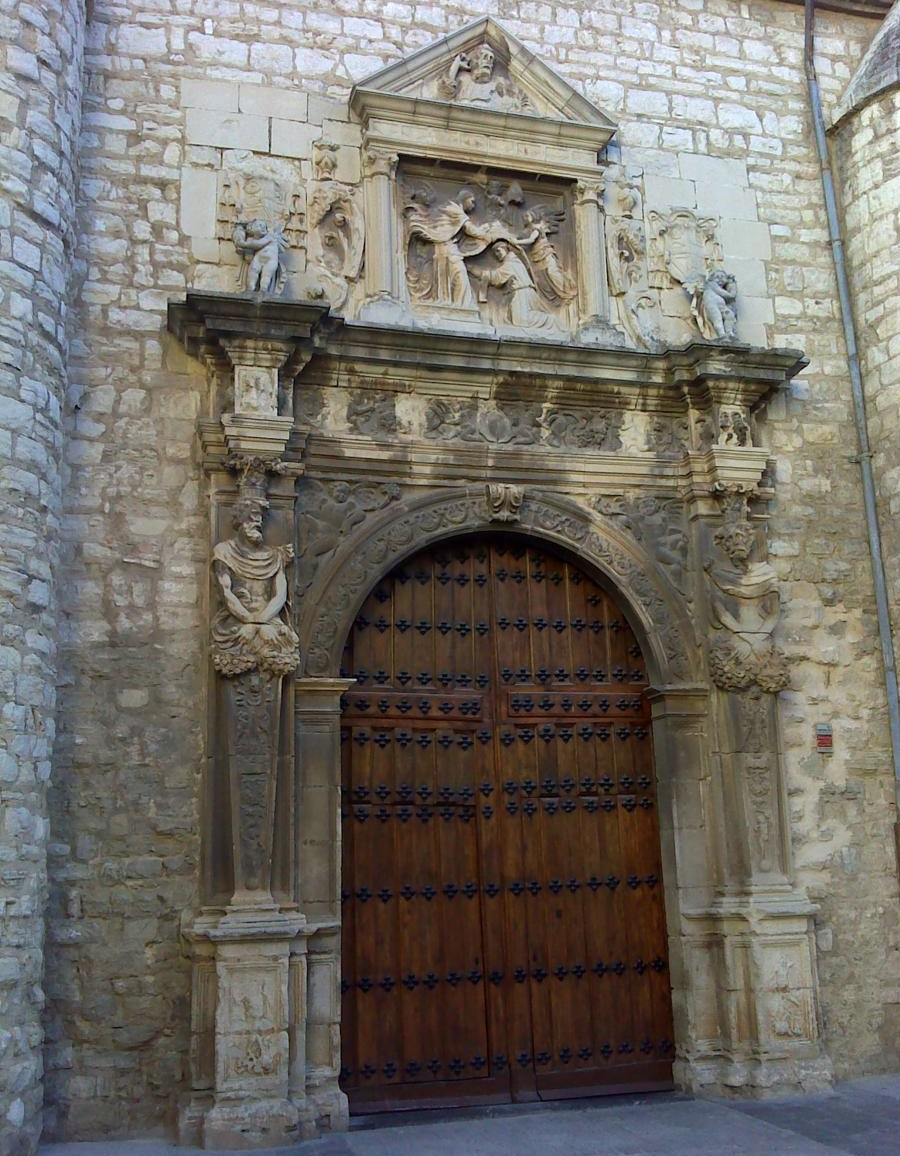arco-medio-punto: (316, 508, 680, 749)
fronton: (352, 2, 630, 151)
